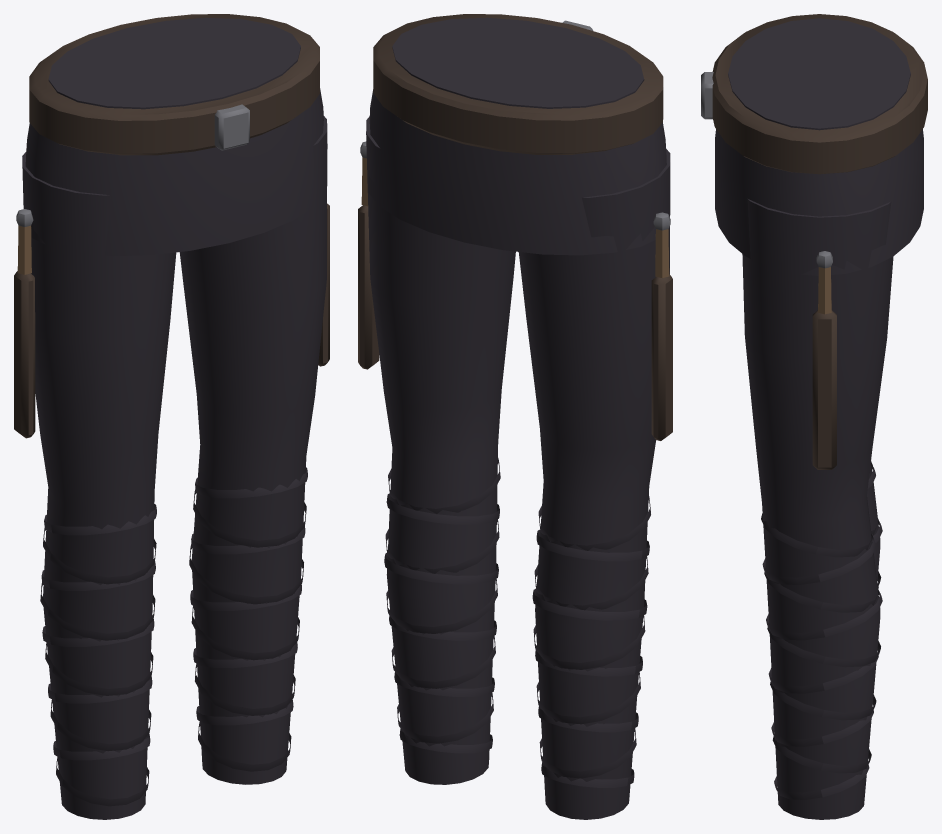
Rendered from nightweave_leggings.glb.
3 renders of one model, left to right at view 1: azimuth 30°, elevation 25°; view 2: azimuth 150°, elevation 25°; view 3: azimuth 270°, elevation 25°, orthographic. The views are drawn at different scales.
Visible parts, largest first — view 1: nightweave_leggings; view 2: nightweave_leggings; view 3: nightweave_leggings.
Boxes of the visible parts, x1=… form: nightweave_leggings: x1=14, y1=14, x2=329, y2=819; nightweave_leggings: x1=358, y1=14, x2=672, y2=819; nightweave_leggings: x1=701, y1=14, x2=927, y2=819.
Bounding box in the file's own units: 0.3185 × 0.7066 × 0.2084.
